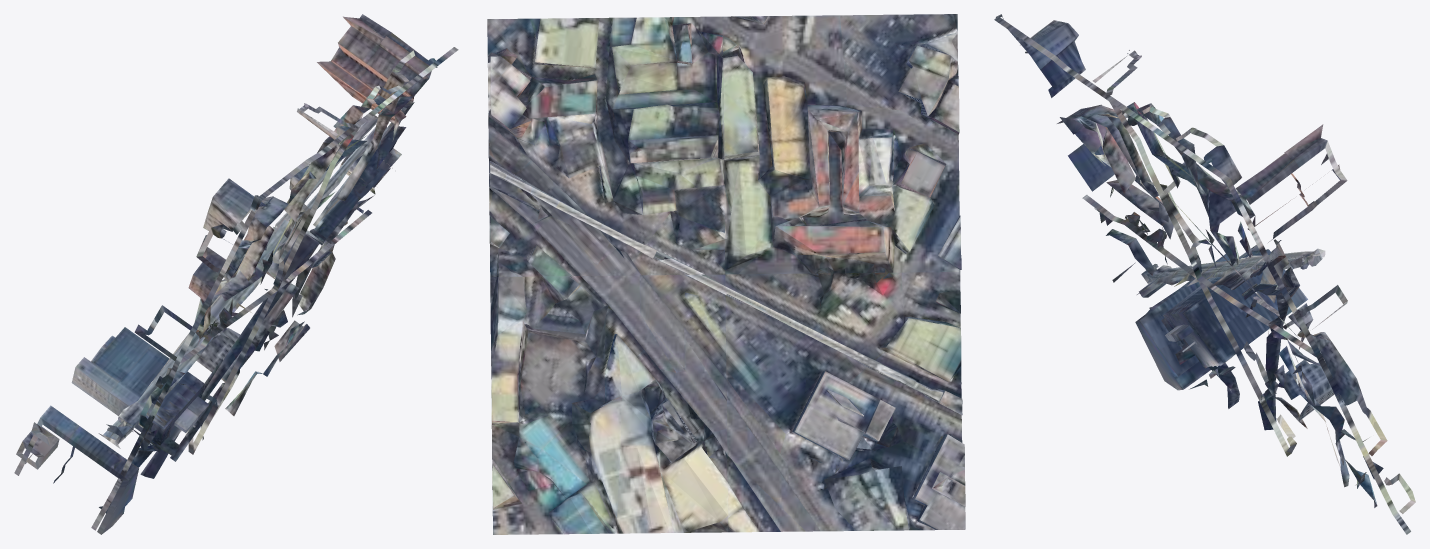
3 renders of one model, left to right at view 1: azimuth 30°, elevation 25°; view 2: azimuth 150°, elevation 25°; view 3: azimuth 270°, elevation 25°, orthographic. The views are drawn at different scales.
Bounding box in the file's own units: 337 × 294 × 262.
Materials: 1 (1 with a texture image).
